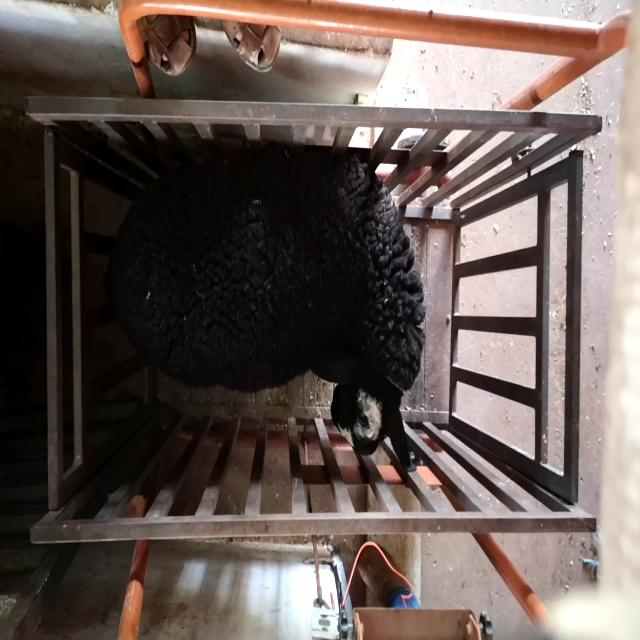sheep: (103, 144, 427, 471)
